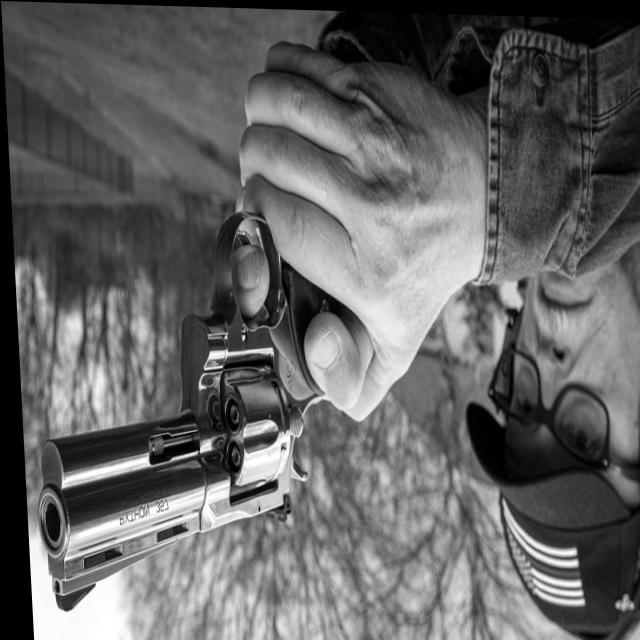handgun: (13, 88, 379, 631)
